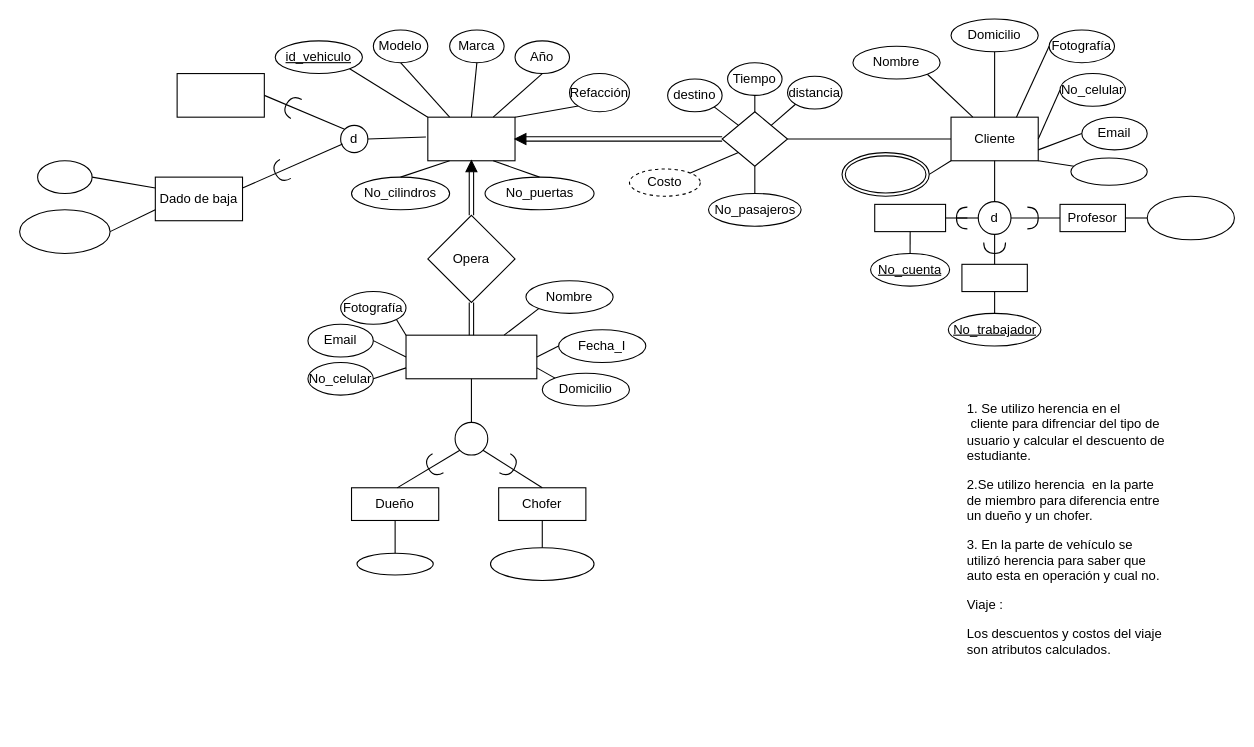
The diagram is 1254 pixels wide and 747 high, and some of its shapes have lost their labels. The shapes that lost their labels are listed below. From the top down, each one's box as (x1, y1, x2, y2) in pixels, then its label:
(176, 72, 264, 117): En operación
(427, 116, 515, 161): Vehículo
(721, 111, 788, 166): Viaja
(37, 160, 92, 193): Motivo
(841, 152, 929, 196): Horario
(1070, 157, 1147, 185): Instituto
(19, 209, 110, 253): Fecha_final
(874, 203, 946, 232): Estudiante
(1146, 195, 1234, 240): No_profesor
(961, 263, 1027, 292): Trabajador
(405, 334, 537, 379): Miembro asosiación
(356, 552, 433, 575): RFC
(489, 547, 594, 580): NumeroLicencia
